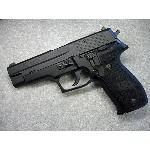Pistol: (5, 26, 148, 116)
